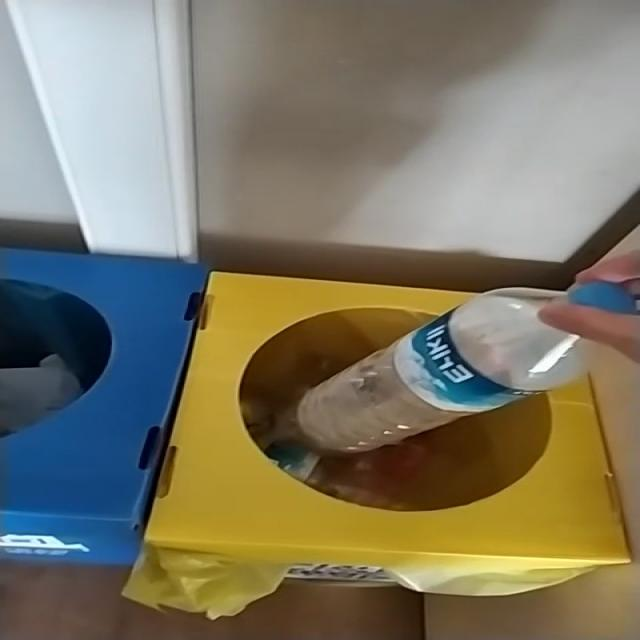plastic: (275, 282, 636, 454)
